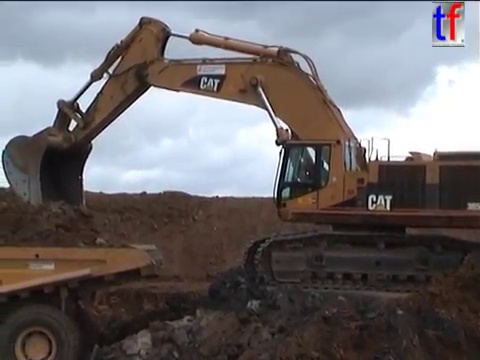excavator: (1, 12, 480, 297)
truck: (1, 240, 165, 360)
